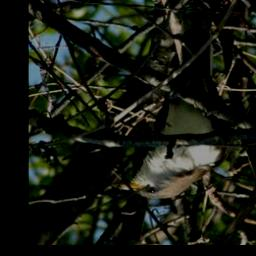Cuckoo: (110, 4, 234, 200)
